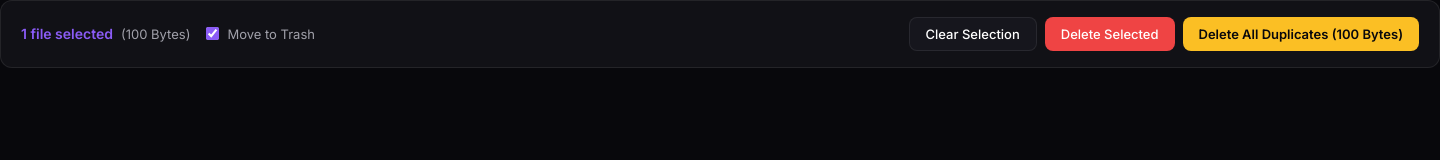
it: DeleteControls › should clear selection when Clear Selection is clicked
Click the button "Clear Selection". click: (973, 34)
box: 908,17 -> 1037,51
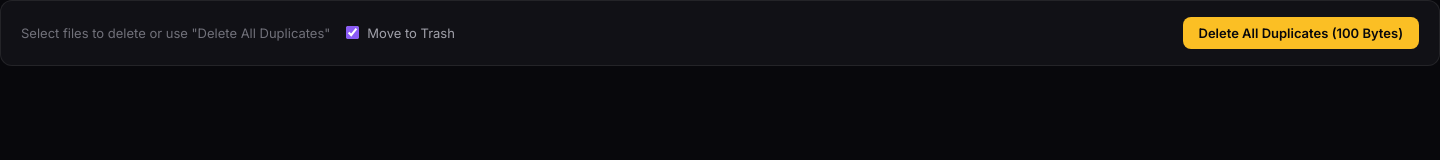
Result: the text "1 file selected" is gone
